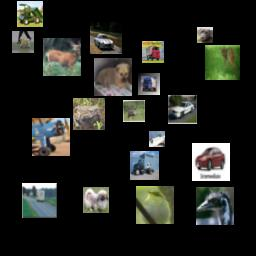airplane: (32, 118, 70, 156)
automobile: (192, 143, 230, 181), (90, 22, 122, 54), (168, 95, 197, 124)
bird: (136, 186, 174, 224), (196, 187, 234, 225)
deer: (43, 38, 81, 76), (205, 45, 240, 80), (123, 100, 145, 122)
dog: (94, 58, 132, 96), (83, 187, 109, 213), (12, 31, 34, 53), (197, 27, 213, 43)
frog: (73, 98, 105, 130)
ship: (149, 131, 165, 147)
truck: (22, 183, 57, 218), (130, 151, 159, 180), (17, 1, 43, 27), (142, 41, 164, 63), (138, 73, 160, 95)
